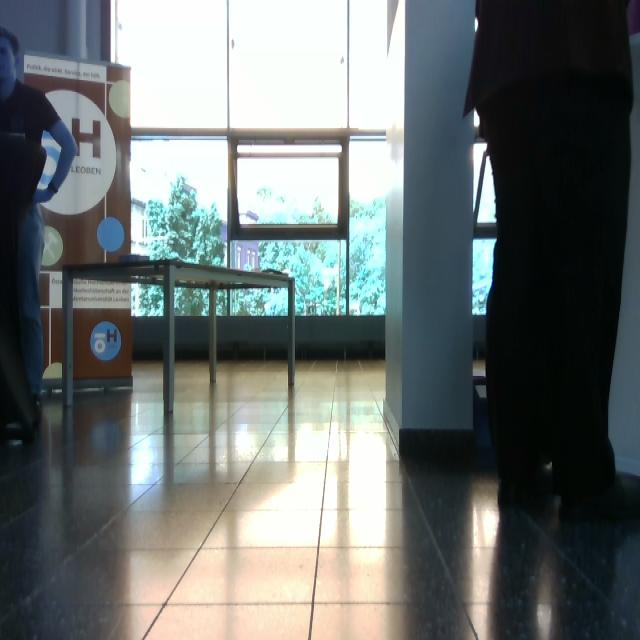door: (22, 51, 134, 387)
light bulb: (36, 130, 63, 192), (97, 216, 125, 253), (41, 225, 64, 266), (109, 80, 131, 120), (386, 123, 404, 163), (474, 17, 479, 33)
person: (463, 1, 636, 512), (1, 26, 79, 437)
pillar: (385, 1, 477, 449)
table: (60, 256, 299, 418)
tiled floor: (2, 356, 639, 638)
window: (110, 1, 396, 322)
